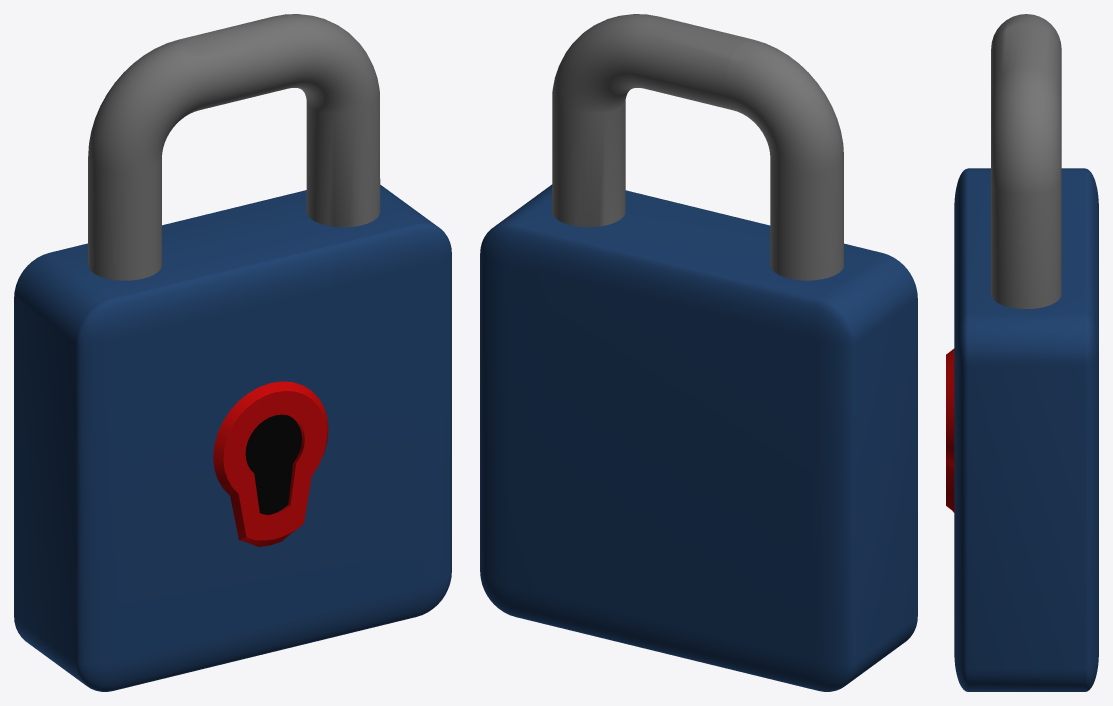
Rendered from lock.glb.
3 views of the same model, side by side, from view 1: azimuth 30°, elevation 25°; view 2: azimuth 150°, elevation 25°; view 3: azimuth 270°, elevation 25° (orthographic). The views are drawn at different scales.
Visible parts, largest first — view 1: Cube, Цилиндр, Окружность; view 2: Cube, Цилиндр; view 3: Cube, Цилиндр, Окружность.
Boxes of the visible parts, box(x1,y1,x2,y2) form: Cube: box(14, 185, 451, 691); Цилиндр: box(88, 14, 380, 280); Окружность: box(213, 381, 328, 546); Cube: box(480, 184, 917, 691); Цилиндр: box(552, 14, 843, 280); Cube: box(954, 168, 1098, 691); Цилиндр: box(991, 14, 1061, 308); Окружность: box(946, 348, 954, 512).
Bounding box in the file's own units: 2 × 3.06 × 0.7398.
